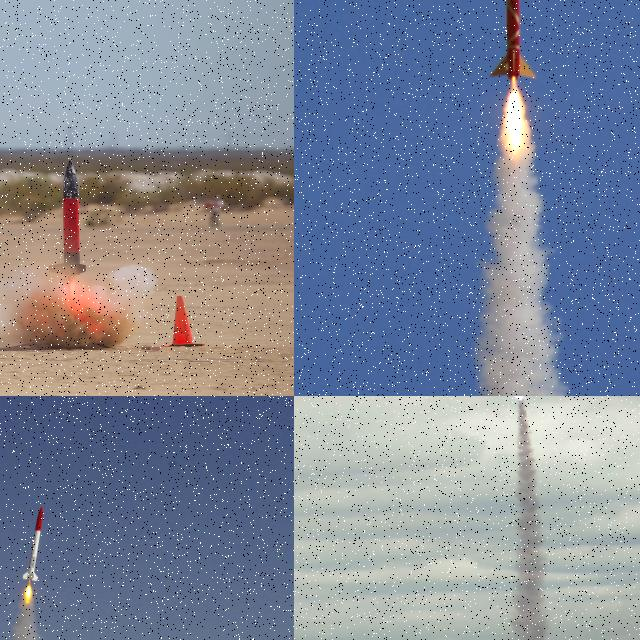Rocket: (48, 157, 87, 277), (489, 0, 535, 80), (22, 505, 44, 582)
